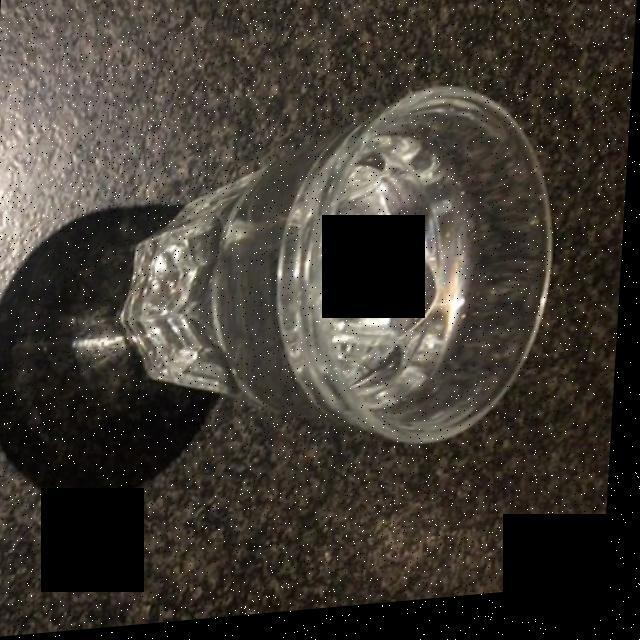water: (144, 130, 471, 420)
